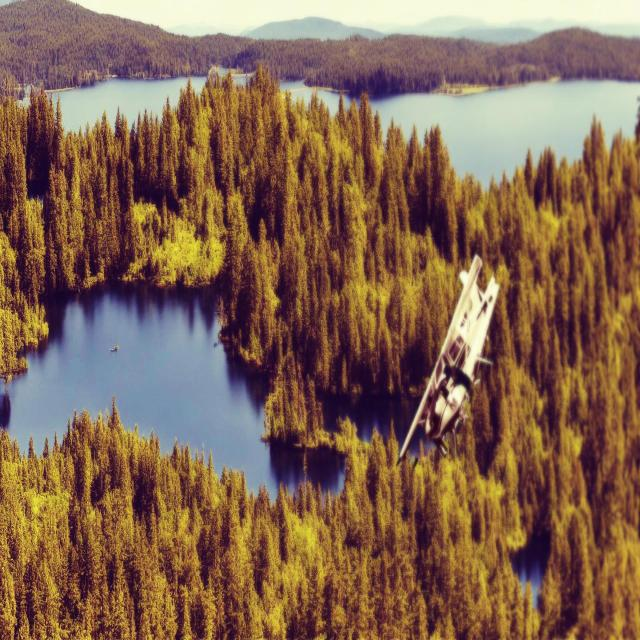airplane: (396, 253, 500, 464)
